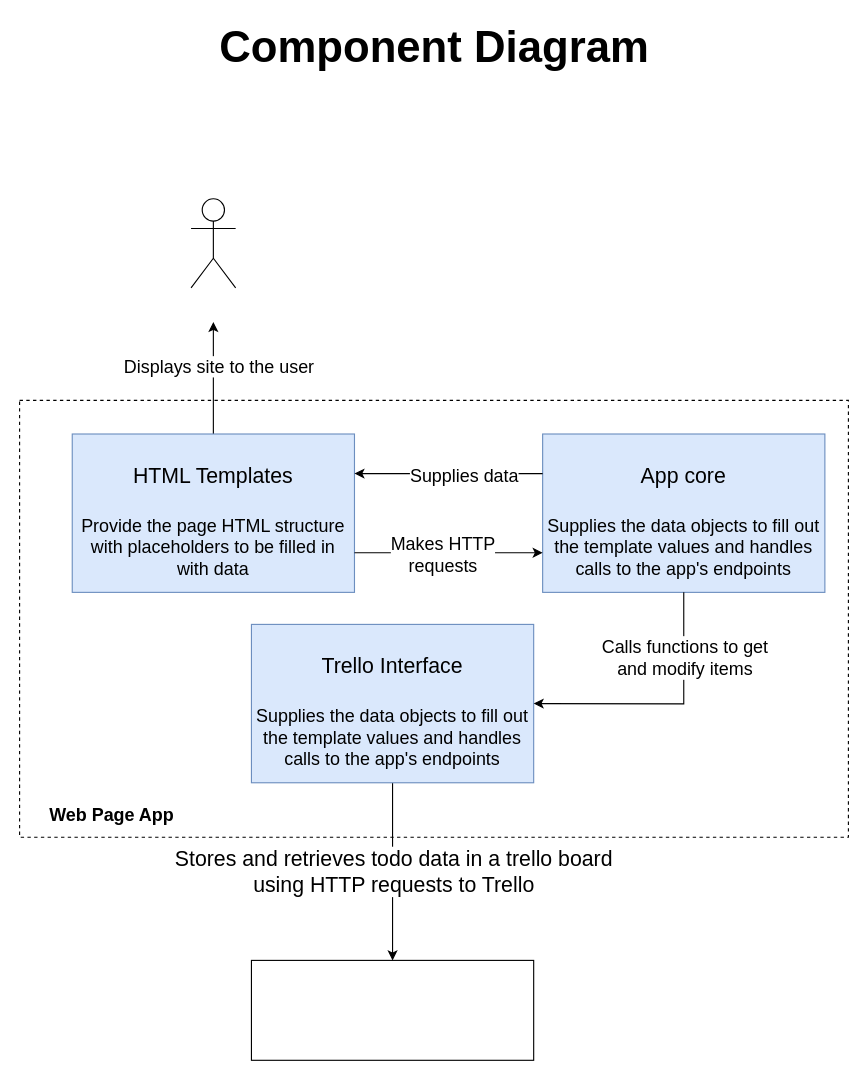
This 868x1080 diagram has some shape labels left out. The shapes that lost their labels are listed below. From the top down, each one's centre as x and y in pixels, then its label:
At (x=213, y=243): "User".
At (x=392, y=1009): "Trello".
